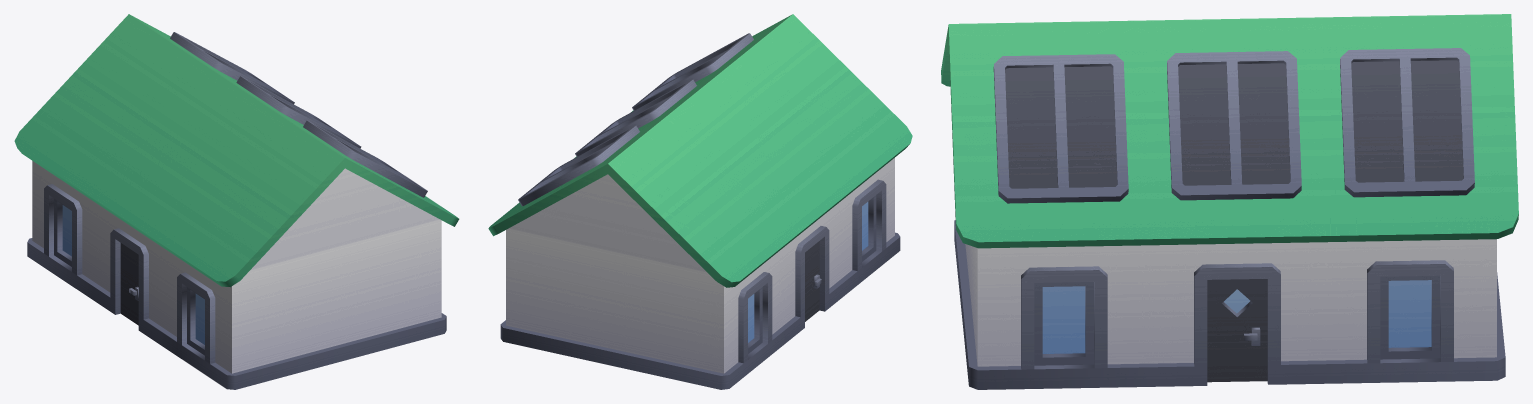
File: building-type-h_lev1.glb
3 renders of one model, left to right at view 1: azimuth 30°, elevation 25°; view 2: azimuth 150°, elevation 25°; view 3: azimuth 270°, elevation 25°, orthographic. The views are drawn at different scales.
Visible parts, largest first — view 1: building-type-h_lev1; view 2: building-type-h_lev1; view 3: building-type-h_lev1.
Part boxes in pixels (box(x1,y1,x2,y2)): building-type-h_lev1: box(14, 14, 459, 389); building-type-h_lev1: box(488, 14, 912, 389); building-type-h_lev1: box(941, 14, 1518, 389).
Size of the model in its own units: 3.1 by 2.37 by 4.28.
1 material, 1 textured.
